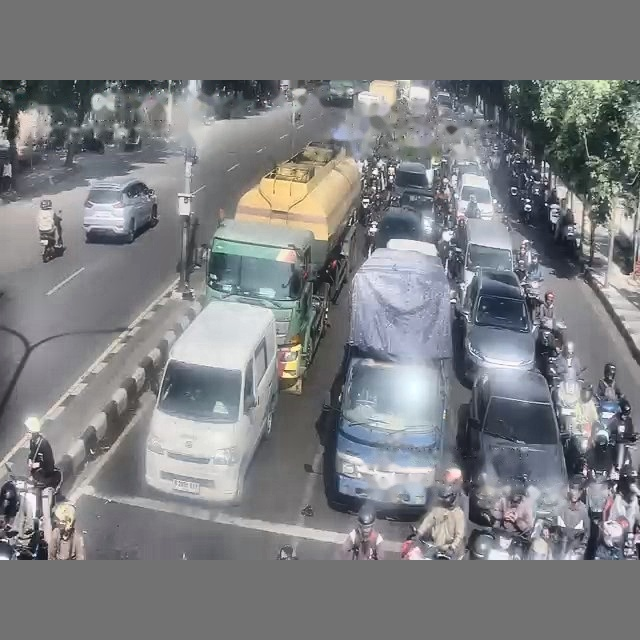Mobil: (457, 369, 567, 523), (454, 268, 535, 379), (83, 179, 157, 243), (399, 189, 440, 241), (375, 207, 423, 248)
Motor: (5, 463, 62, 558), (400, 526, 451, 559), (40, 231, 63, 262)
Truk: (206, 142, 360, 394), (320, 247, 452, 511)
